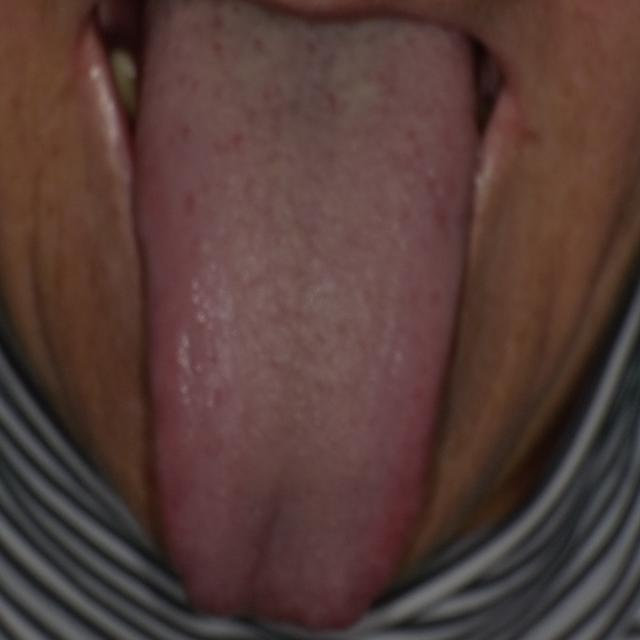baitaishe: (132, 3, 475, 630)
